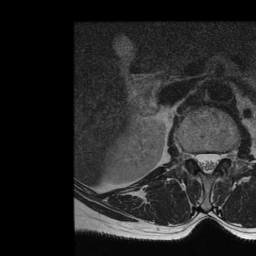CCS_normal: (203, 145, 212, 182)
LFS_stenosis: (220, 145, 229, 168)
LLS_normal: (212, 146, 220, 174)
RFS_stenosis: (186, 144, 195, 168)
RLS_normal: (195, 147, 203, 174)
